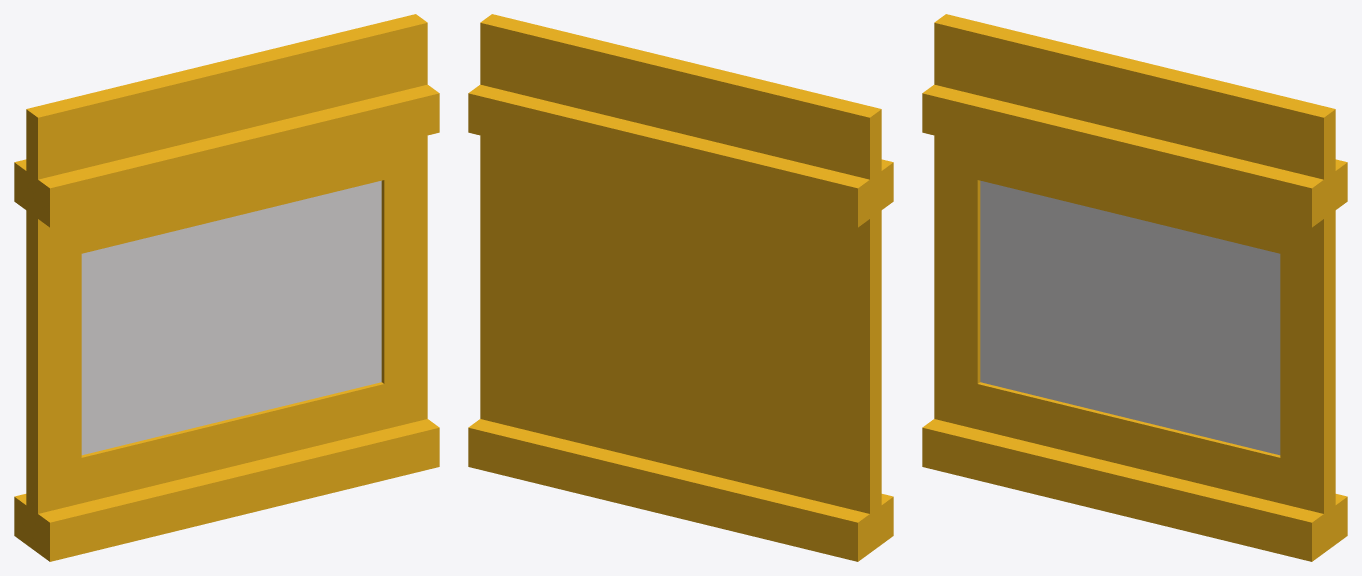
File: tuong_truong_nh.fbx
The picture shows the model from 3 angles, left to right: view 1: azimuth 30°, elevation 25°; view 2: azimuth 150°, elevation 25°; view 3: azimuth 330°, elevation 25°; orthographic projection.
Parts seen in each view (by area): view 1: Tuong_NguyenHue; view 2: Tuong_NguyenHue; view 3: Tuong_NguyenHue.
Part boxes in pixels (x1,y1,x2,y2): Tuong_NguyenHue: [14, 14, 439, 561]; Tuong_NguyenHue: [468, 14, 893, 561]; Tuong_NguyenHue: [922, 14, 1347, 561].
Bounding box in the file's own units: 80.82 × 86.3 × 12.83.
1 material, 1 textured.
